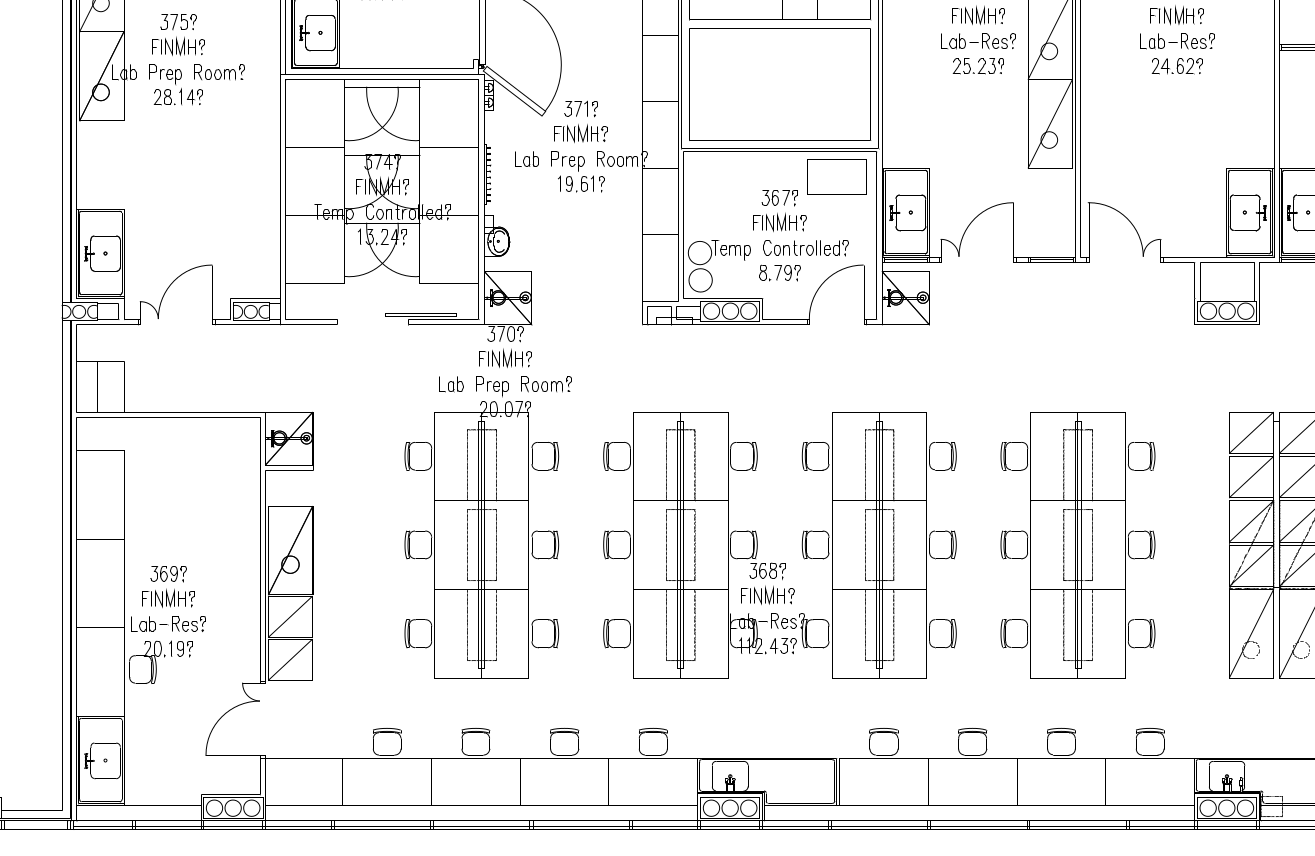door: (198, 681, 260, 763), (806, 258, 867, 331), (158, 256, 219, 329), (1088, 195, 1145, 266), (961, 191, 1018, 262)
